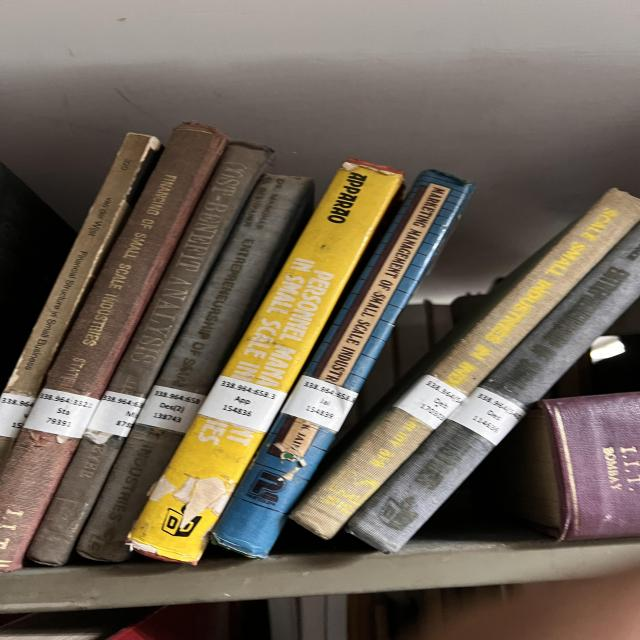Book: (290, 190, 638, 539), (127, 162, 402, 564), (0, 124, 227, 571), (213, 170, 473, 558), (347, 226, 640, 552), (28, 144, 247, 564), (78, 175, 312, 561)
Label: (198, 375, 287, 432), (448, 388, 525, 445), (282, 375, 358, 431), (393, 375, 467, 429), (23, 389, 100, 439), (137, 385, 205, 432), (88, 391, 145, 438)
